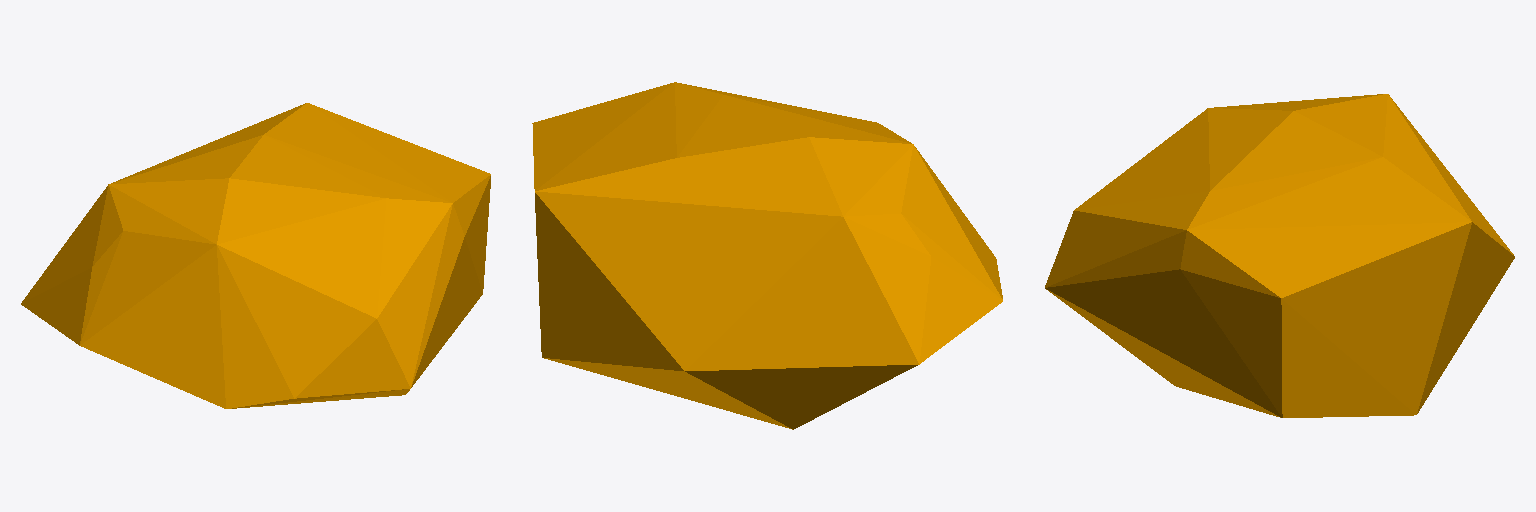
robot.urdf — train2996:
<?xml version="1.0"?>
<robot name="train2996">
  <link name="link">
    <contact>
      <lateral_friction value="0.6"/>
    </contact>
    <inertial>
      <mass value = "0.3614851488107808"/>
      <inertia ixx="0.00015160811454972904" ixy="-1.7461868895641553e-20" ixz="7.859759889730529e-21" iyy="0.0001791003989100994" iyz="-7.752302234988119e-22" izz="0.0002534611719441443" />
    </inertial>
    <visual name="visual">
      <geometry>
        <mesh filename="train2996.obj"/>
      </geometry>
    </visual>
    <collision name="collision">
      <geometry>
        <mesh filename="train2996.obj"/>
      </geometry>
    </collision>
  </link>
</robot>

--- Facts derived from the render (not from the file) ---
The picture shows the robot from 3 angles, left to right: view 1: azimuth 30°, elevation 25°; view 2: azimuth 150°, elevation 25°; view 3: azimuth 270°, elevation 25°; orthographic projection.
Model train2996 with 1 links and 0 joints (none), rooted at link, posed every joint at zero.
Visible links, largest first — view 1: link; view 2: link; view 3: link.
Link boxes in pixels (bbox=[...]): link: bbox=[21, 103, 490, 408]; link: bbox=[532, 82, 1002, 429]; link: bbox=[1045, 94, 1514, 417].
Size in the robot's own frame: 0.0945 by 0.0878 by 0.0455 metres.
1 mesh visuals loaded from 1 distinct referenced files (1 OBJ).
